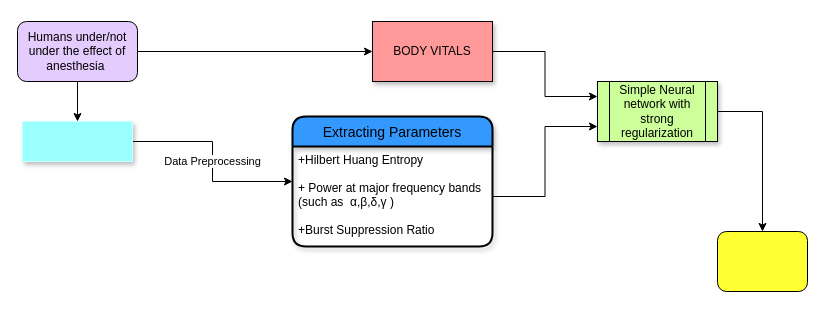
Some shapes in this 825 by 309 pixel diagram are drawn without their labels. The shapes that lost their labels are listed below. From the top down, each one's centre as x and y in pixels, then its label:
point (78, 142): EEG
point (762, 261): Depth of Anesthesia
